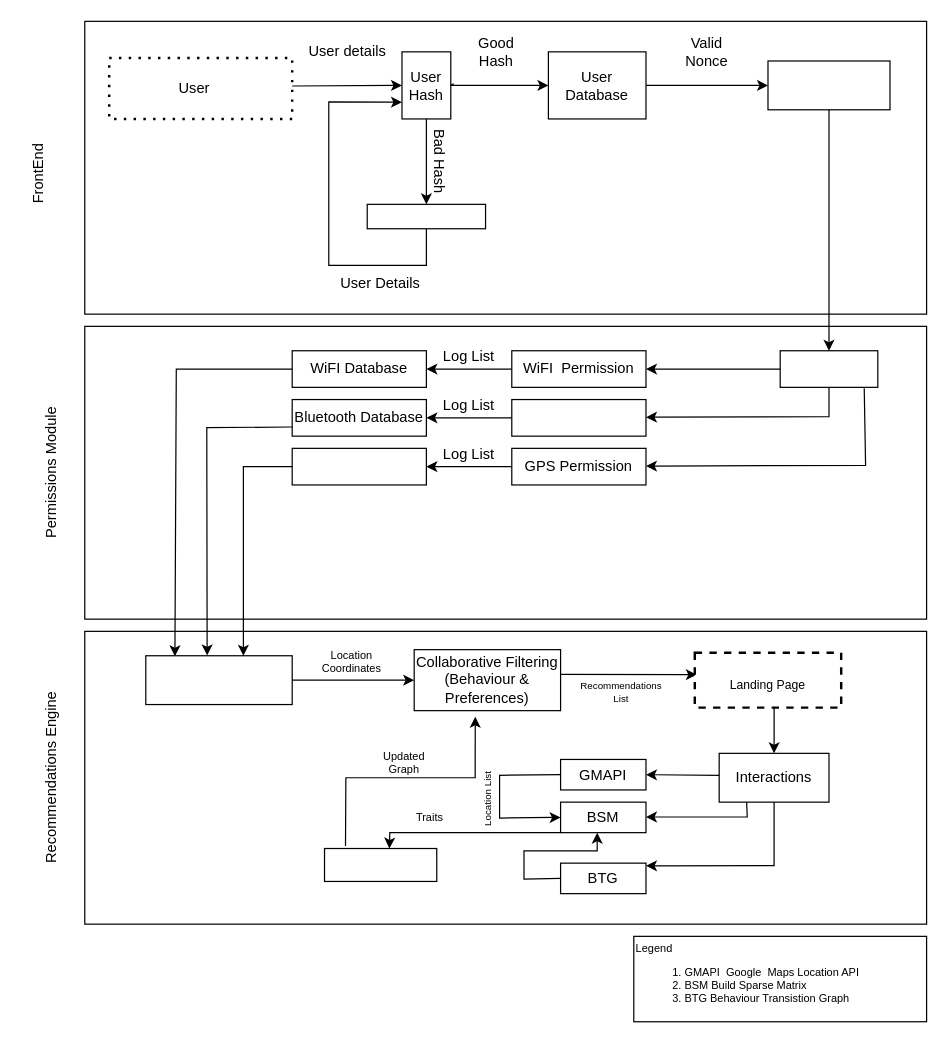
Image size: 948x1050. Some labels were removed from this diagram. Each missing label, with the centre of its shape:
"Bluetooth Permission" goes at [578,417].
"GPS Database" goes at [358,466].
"Iterative Graph Restructuring" goes at [380,864].
"Location API" goes at [828,368].
"Location Collaboration" goes at [218,680].
"Permissions" goes at [828,85].
"Registration" goes at [426,216].
